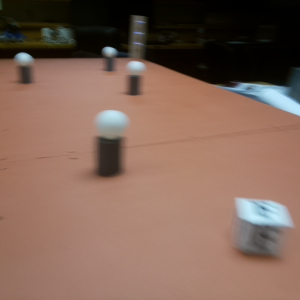corner: (130, 13, 147, 64)
obstacle: (94, 107, 128, 181), (127, 59, 145, 98), (15, 51, 36, 83), (104, 44, 116, 76)
